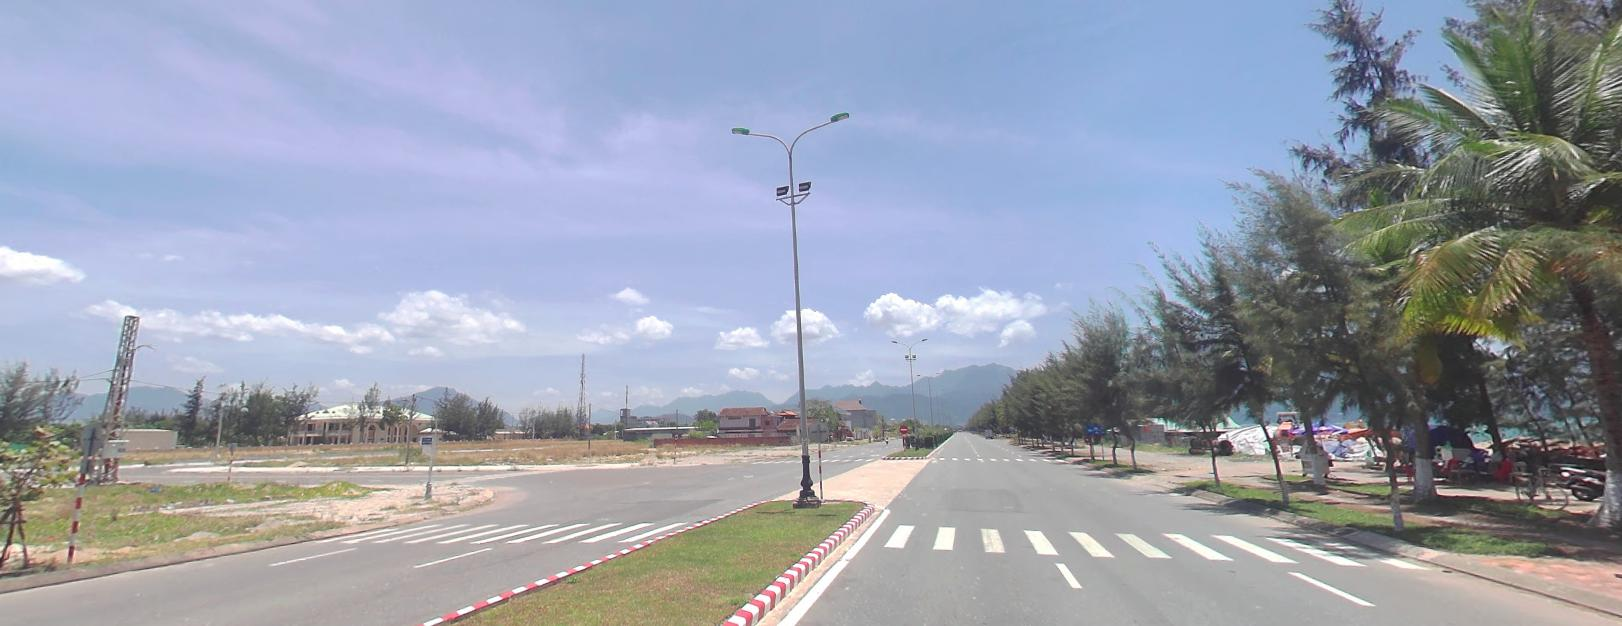Cam nguoc chieu: (899, 424, 908, 431)
